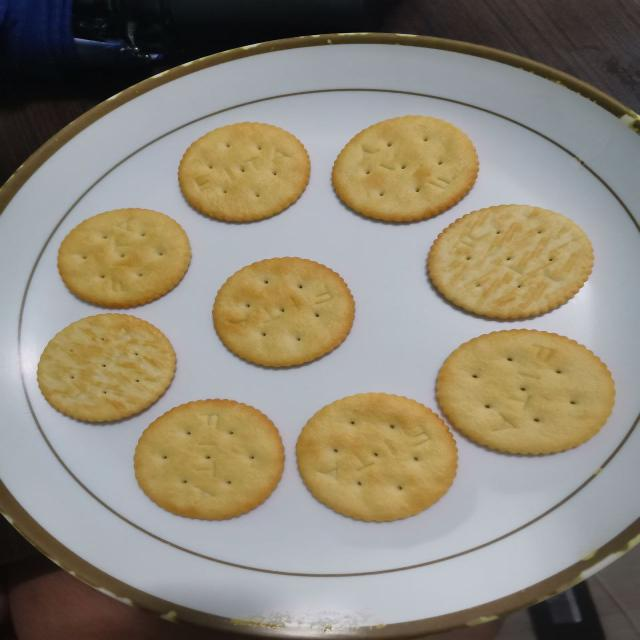intact biscuit: (434, 327, 616, 457), (294, 391, 458, 523), (424, 202, 594, 320), (132, 397, 285, 521), (330, 113, 479, 223), (211, 255, 356, 368), (35, 312, 177, 424), (55, 206, 192, 309), (176, 120, 311, 224)
